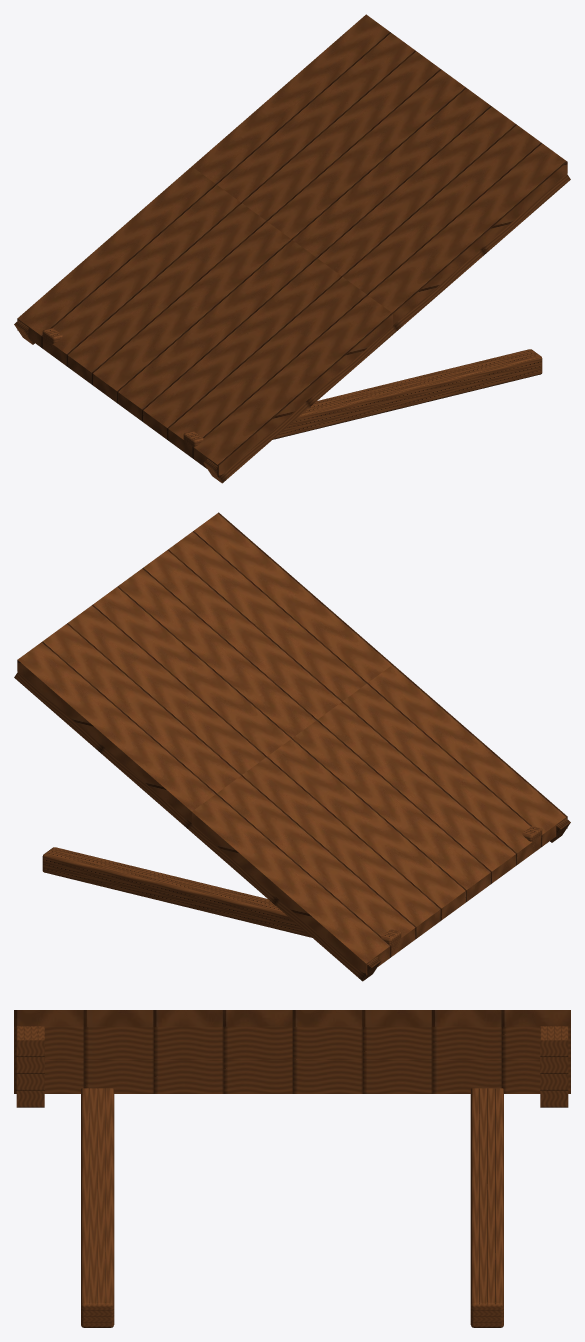
File: rural-scavenging-settlements-porch-lean-to-roof-e62800e1__26490.glb
3 renders of one model, top to bottom at view 1: azimuth 30°, elevation 25°; view 2: azimuth 150°, elevation 25°; view 3: azimuth 270°, elevation 25°, orthographic. The views are drawn at different scales.
Parts seen in each view (by area): view 1: porch-lean-to-roof; view 2: porch-lean-to-roof; view 3: porch-lean-to-roof.
Boxes of the visible parts, bbox=[...] form: porch-lean-to-roof: bbox=[14, 14, 570, 483]; porch-lean-to-roof: bbox=[14, 512, 570, 981]; porch-lean-to-roof: bbox=[14, 1010, 570, 1327].
Bounding box in the file's own units: 2.05 × 1.31 × 2.
1 material, 1 textured.
